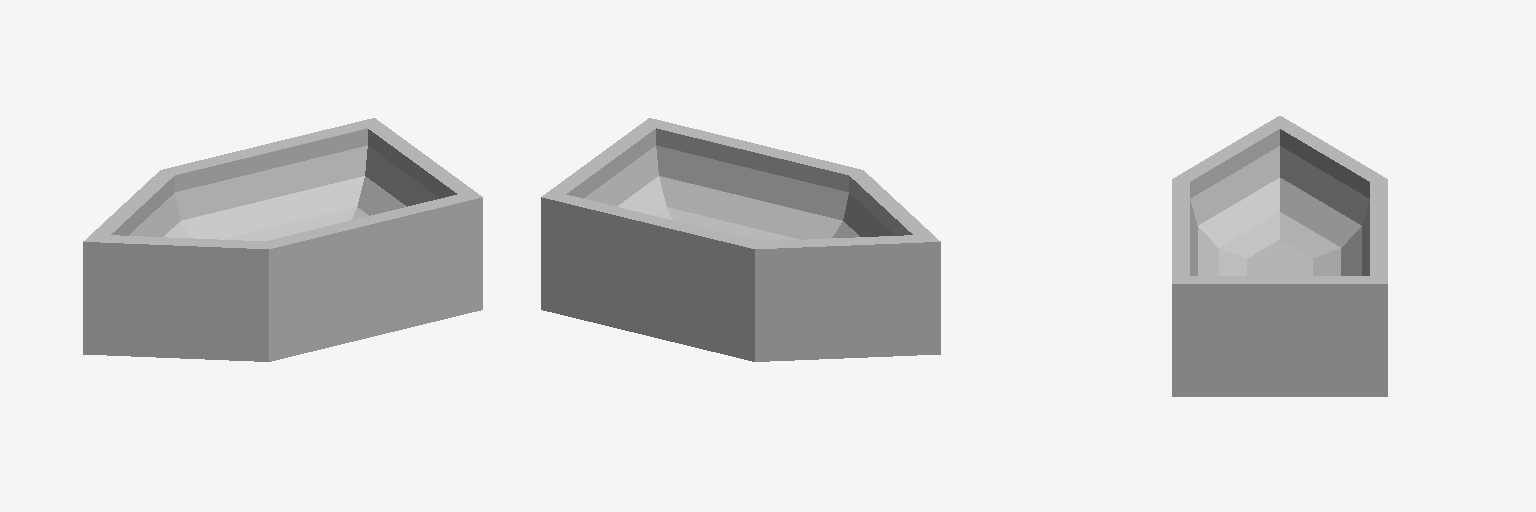
File: placeholderboat.obj
The picture shows the model from 3 angles: view 1: azimuth 30°, elevation 25°; view 2: azimuth 150°, elevation 25°; view 3: azimuth 270°, elevation 25°; orthographic projection.
Parts seen in each view (by area): view 1: Cube; view 2: Cube; view 3: Cube.
Part boxes in pixels (x1,y1,x2,y2): Cube: (83,118,482,361); Cube: (541,118,940,361); Cube: (1172,116,1387,396).
Size of the model in its own units: 3.23 by 1.01 by 1.76.